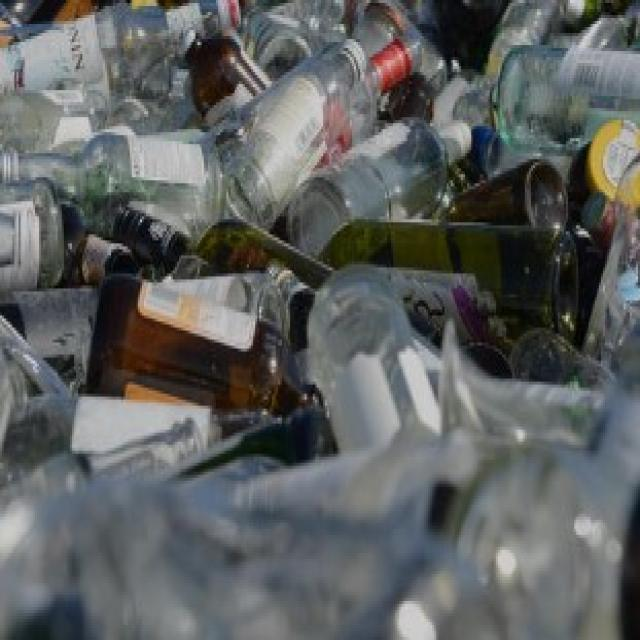electronic: (0, 38, 585, 404)
